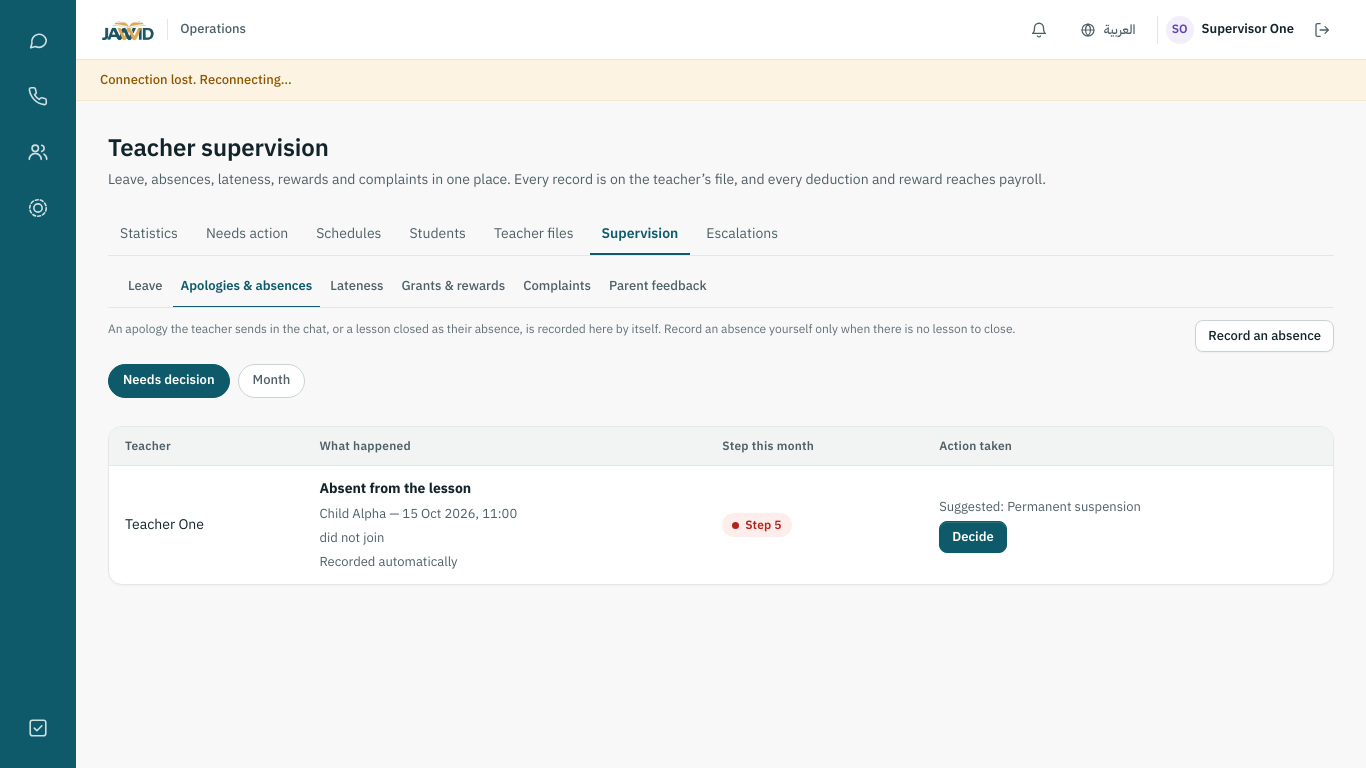
Test: discipline on the Supervision page › a permanent suspension whose lessons could not be cancelled says so, and asks for nothing more
The width and height of the screenshot is (1366, 768).
Click the button "Decide".
click(973, 537)  # box [939,521,1007,553]
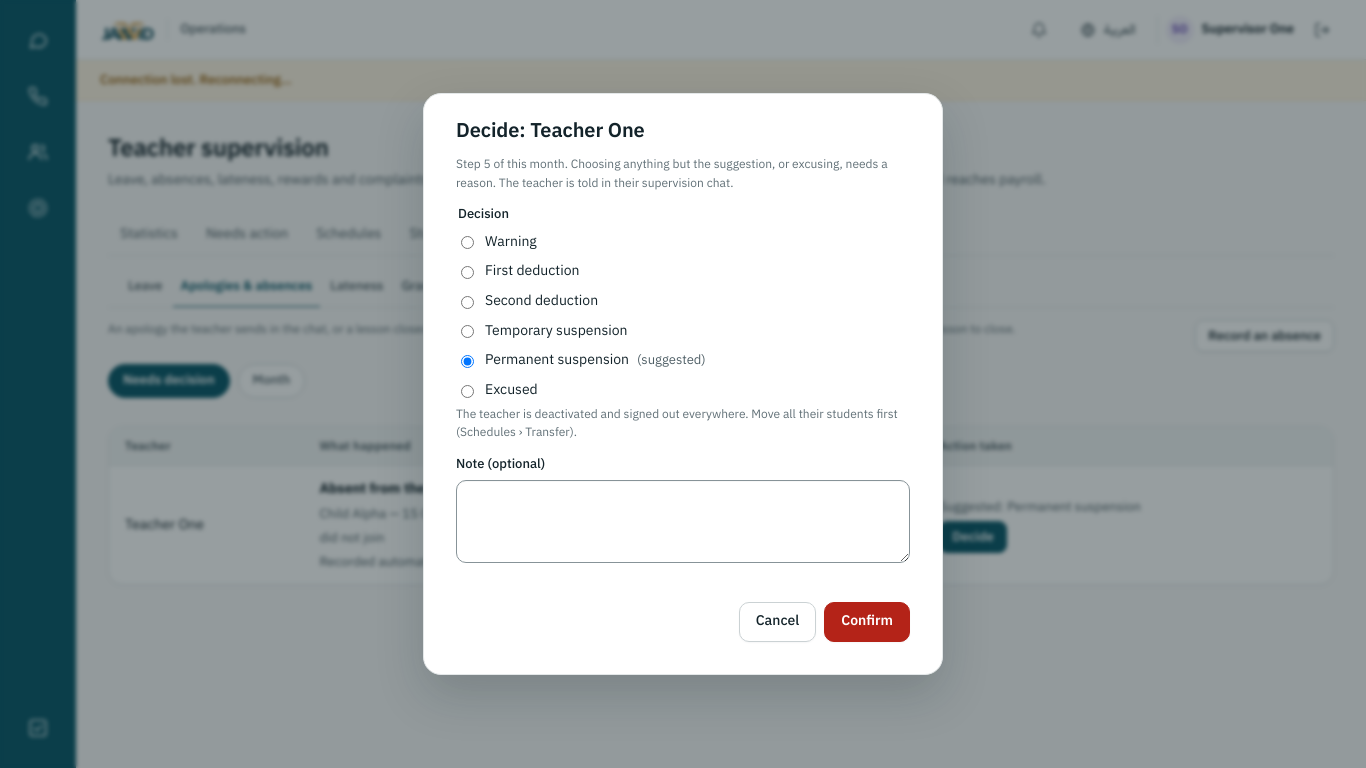
Click the button "Confirm".
click(867, 622)  # box [824,602,910,642]
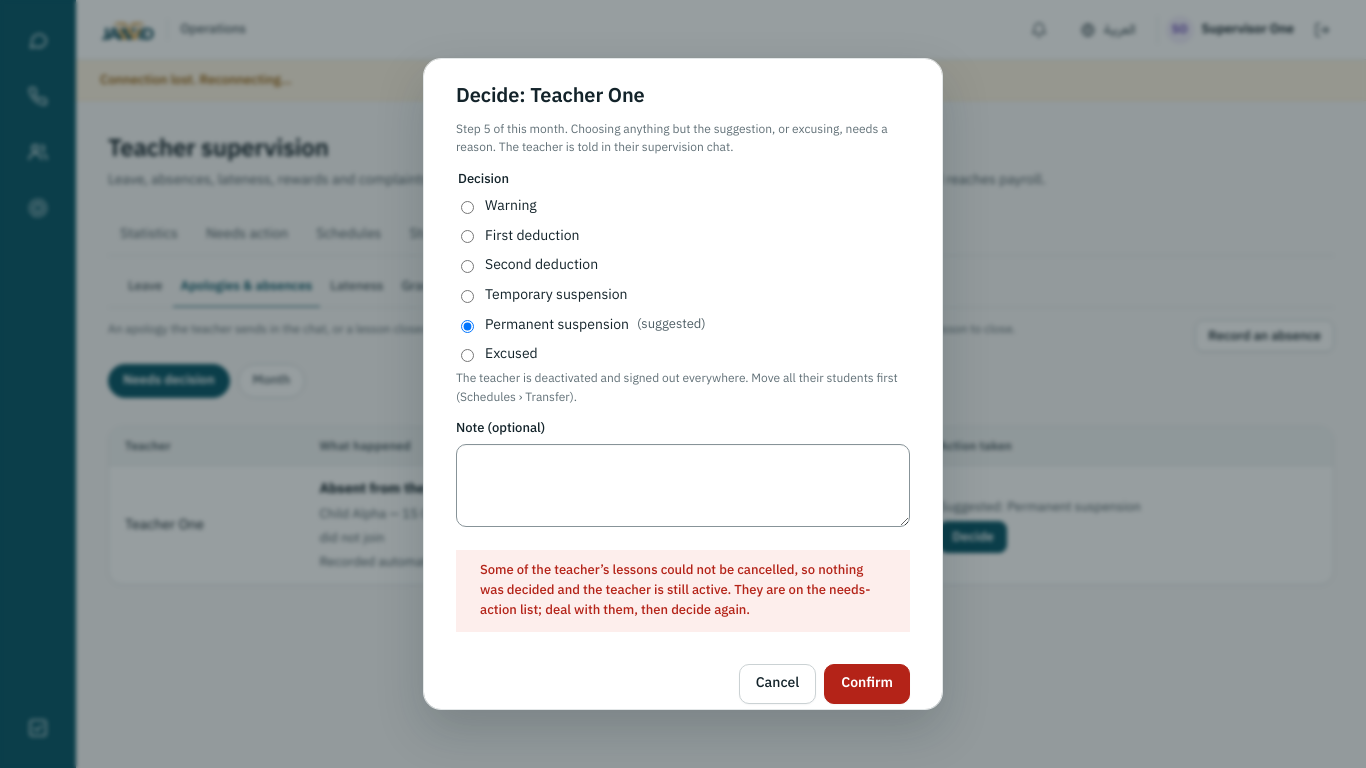
Result: the 2nd message shows "could not be cancelled, so nothing was decided and the teacher is still active" at [480,560,870,619]
